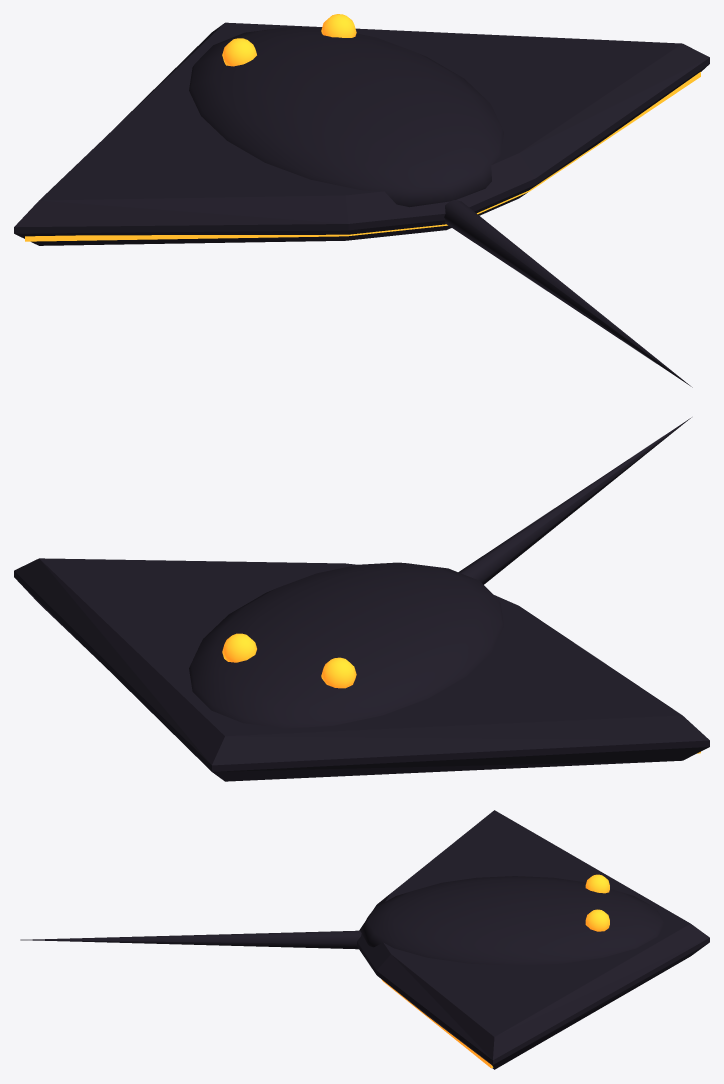
File: FISH_OBSIDIANRAY.glb
3 renders of one model, top to bottom at view 1: azimuth 30°, elevation 25°; view 2: azimuth 150°, elevation 25°; view 3: azimuth 270°, elevation 25°, orthographic. The views are drawn at different scales.
Visible parts, largest first — view 1: Obsidian, Glow; view 2: Obsidian, Glow; view 3: Obsidian, Glow.
Part boxes in pixels (x1,y1,x2,y2): Obsidian: [14, 22, 709, 387]; Glow: [25, 14, 700, 241]; Obsidian: [14, 417, 709, 781]; Glow: [222, 633, 700, 753]; Obsidian: [20, 810, 709, 1069]; Glow: [381, 874, 609, 1068].
Size of the model in its own units: 2.4 by 0.3201 by 2.87.
